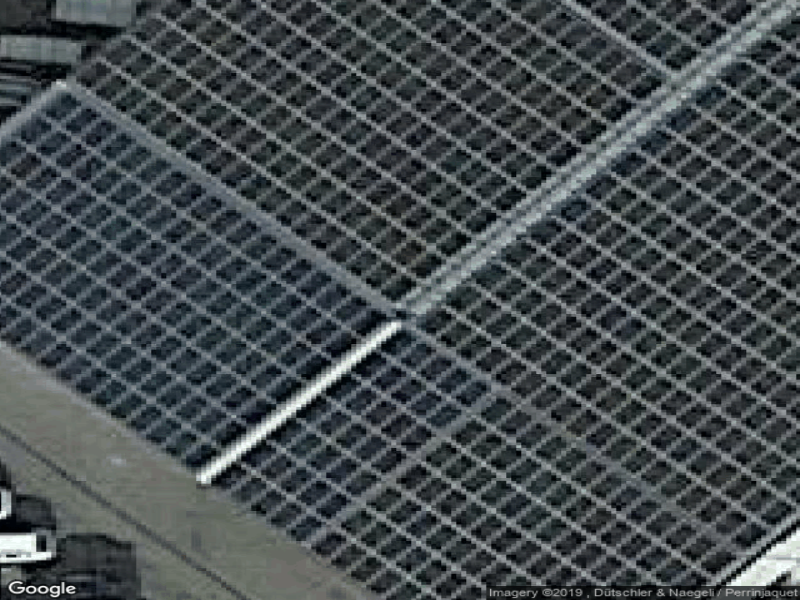pv: (5, 1, 800, 598)
